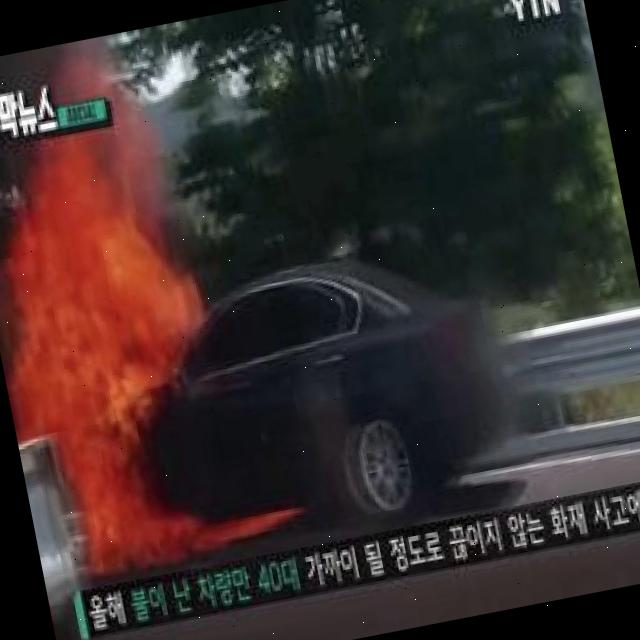fire: (0, 150, 217, 584)
